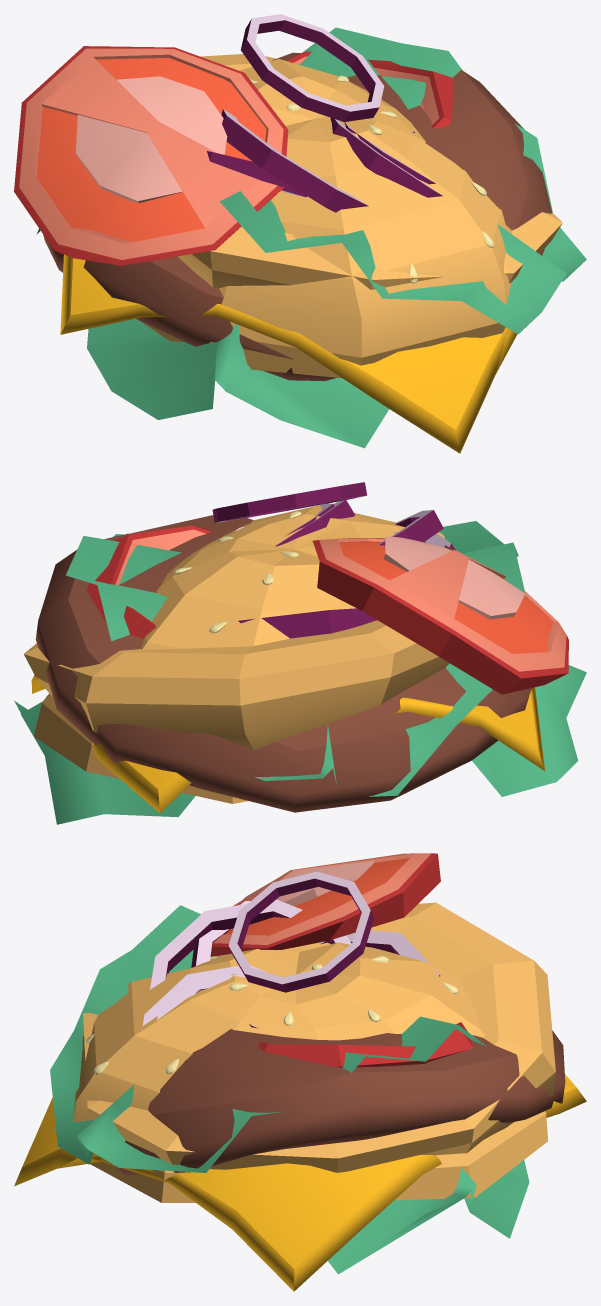
File: BottomBun.fbx
The picture shows the model from 3 angles, top to bottom: view 1: azimuth 30°, elevation 25°; view 2: azimuth 150°, elevation 25°; view 3: azimuth 270°, elevation 25°; orthographic projection. The views are drawn at different scales.
Parts seen in each view (by area): view 1: Tomatoes, TopBun, Lattuce, Patty, CheeseSlice, BottomBun, Onion2, Onion1; view 2: Patty, BottomBun, Tomatoes, Lattuce, TopBun, CheeseSlice, Onion1, Onion2; view 3: TopBun, Patty, BottomBun, CheeseSlice, Lattuce, Tomatoes, Onion2, Onion1.
Boxes of the visible parts, x1,y1,x2,y2 form: Tomatoes: [14, 46, 453, 265]; TopBun: [140, 59, 512, 378]; Lattuce: [37, 27, 586, 448]; Patty: [43, 52, 552, 381]; CheeseSlice: [60, 254, 517, 453]; BottomBun: [177, 54, 562, 289]; Onion2: [207, 14, 414, 197]; Onion1: [221, 109, 442, 212]; Patty: [35, 515, 531, 812]; BottomBun: [24, 620, 449, 750]; Tomatoes: [86, 525, 568, 694]; Lattuce: [14, 521, 586, 824]; TopBun: [34, 505, 444, 803]; CheeseSlice: [31, 675, 544, 812]; Onion1: [238, 500, 443, 638]; Onion2: [212, 482, 455, 550]; TopBun: [73, 942, 548, 1202]; Patty: [116, 1029, 565, 1175]; BottomBun: [83, 902, 555, 1172]; CheeseSlice: [14, 1074, 586, 1291]; Lattuce: [50, 905, 529, 1274]; Tomatoes: [193, 853, 473, 1067]; Onion2: [191, 871, 374, 1028]; Onion1: [142, 899, 440, 1025].
Bounding box in the file's own units: 26.46 × 14.88 × 26.49.
